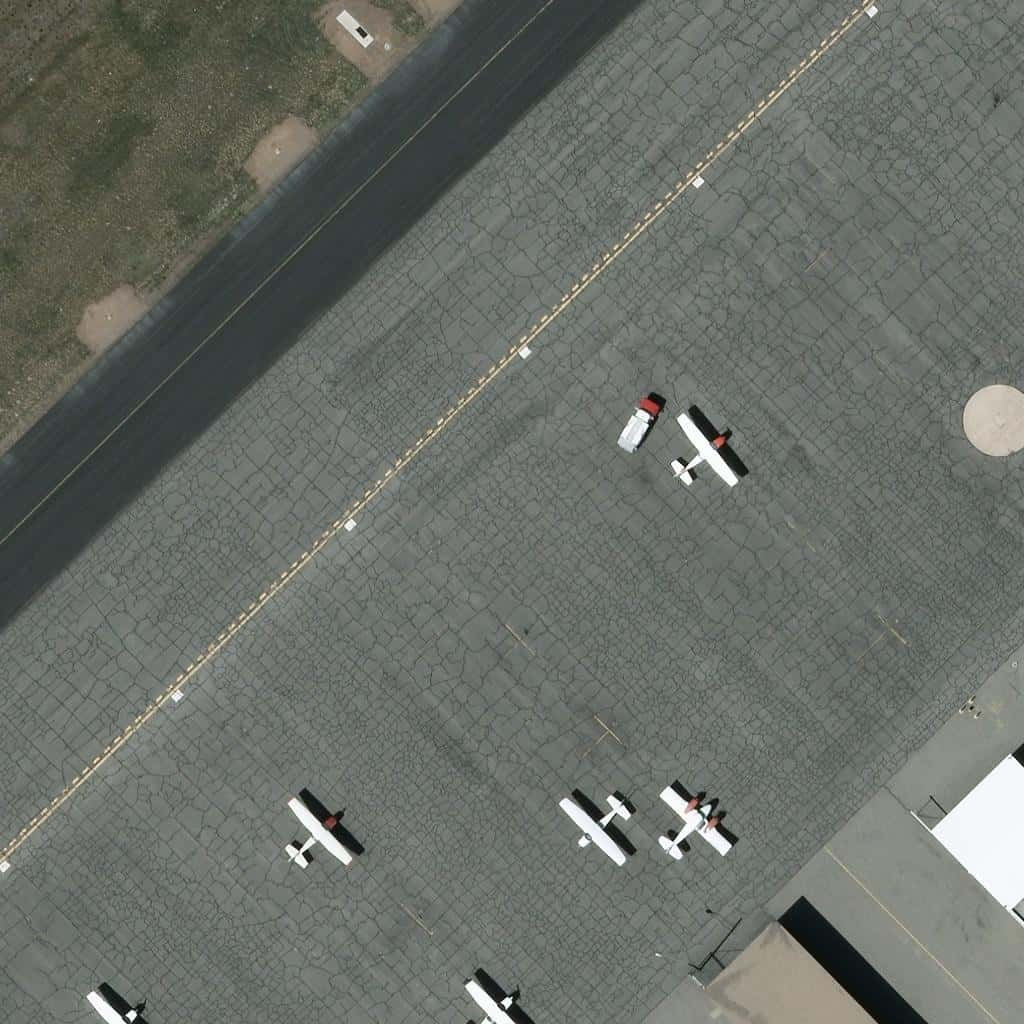plane: (664, 410, 746, 494), (275, 788, 357, 872), (555, 788, 637, 872), (652, 780, 734, 864), (74, 982, 159, 1023), (443, 982, 528, 1023)
